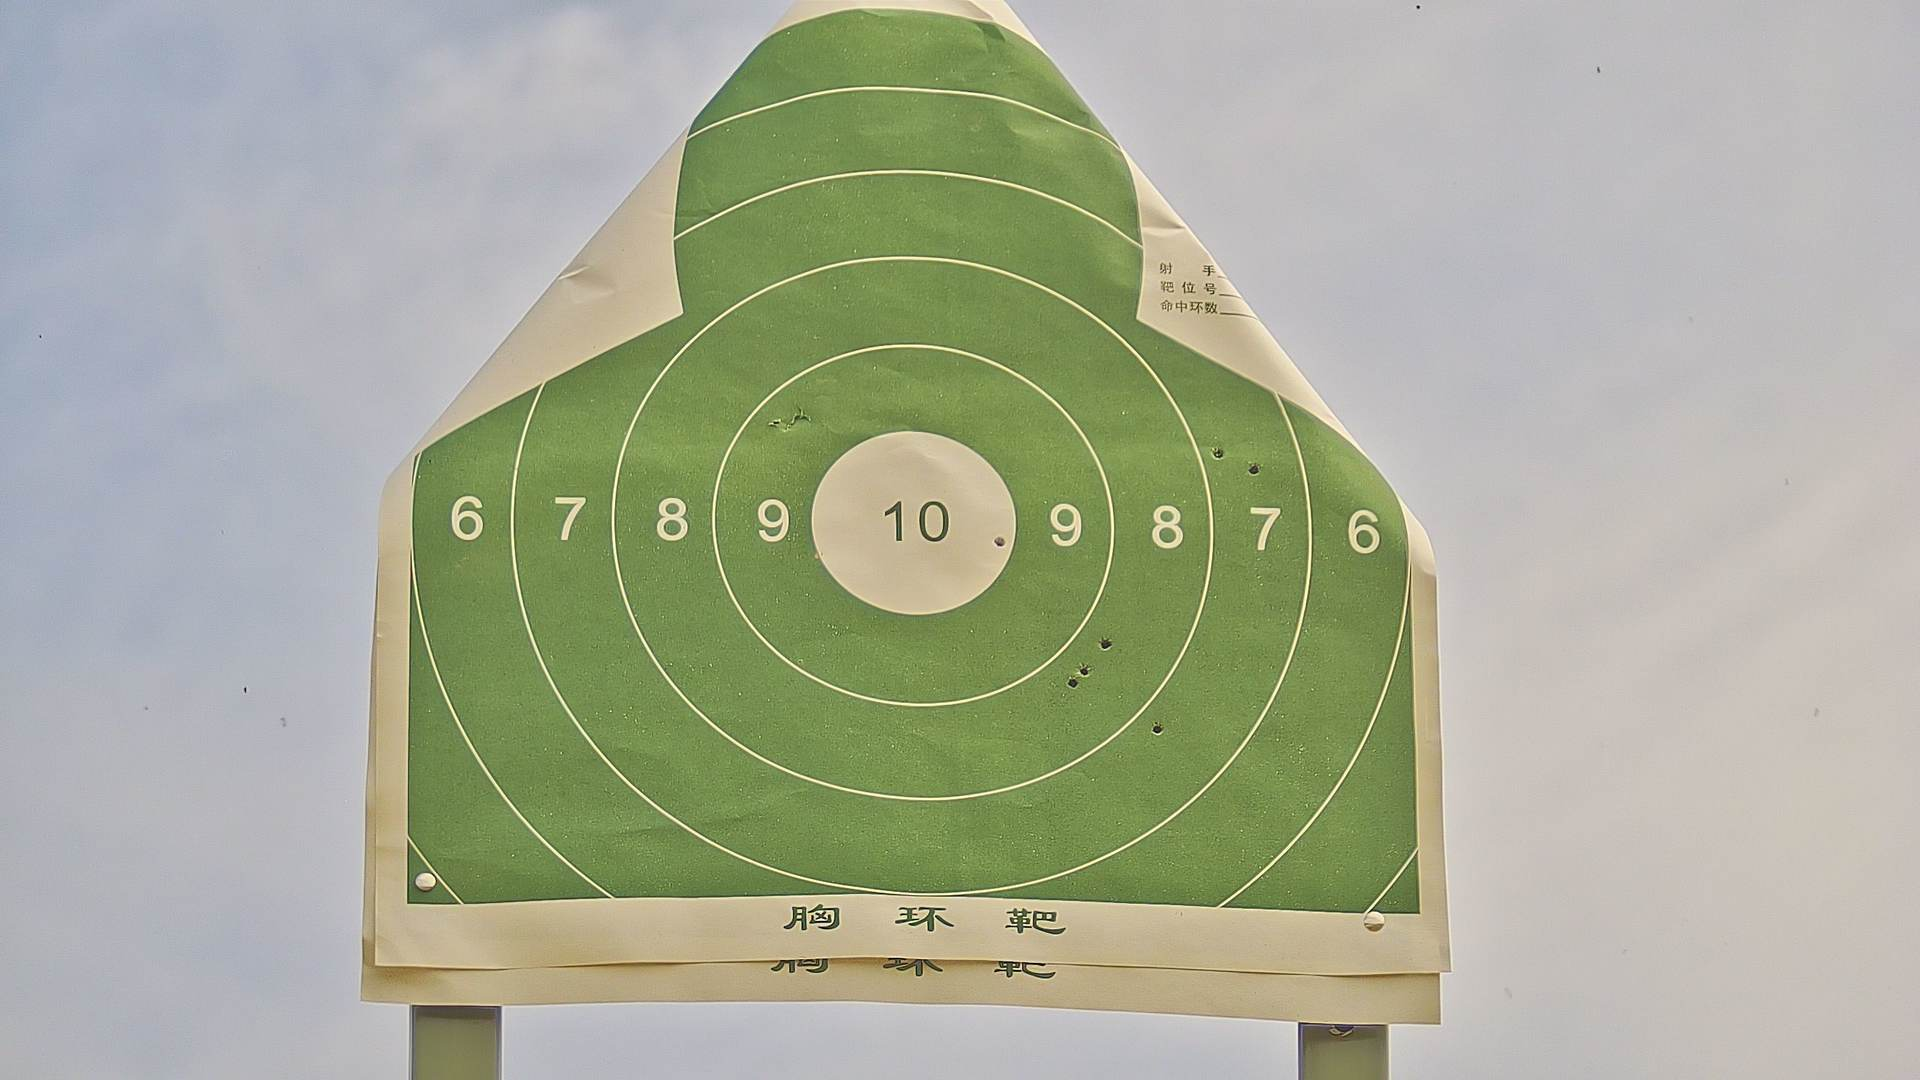hole: (1063, 669, 1084, 692), (1207, 438, 1226, 460), (992, 530, 1011, 553), (1149, 716, 1168, 737), (1246, 459, 1265, 480), (1077, 657, 1092, 680), (1095, 632, 1113, 650)
kernel: (907, 517, 920, 527)
target: (407, 9, 1425, 915)
ten: (810, 422, 1022, 620)
